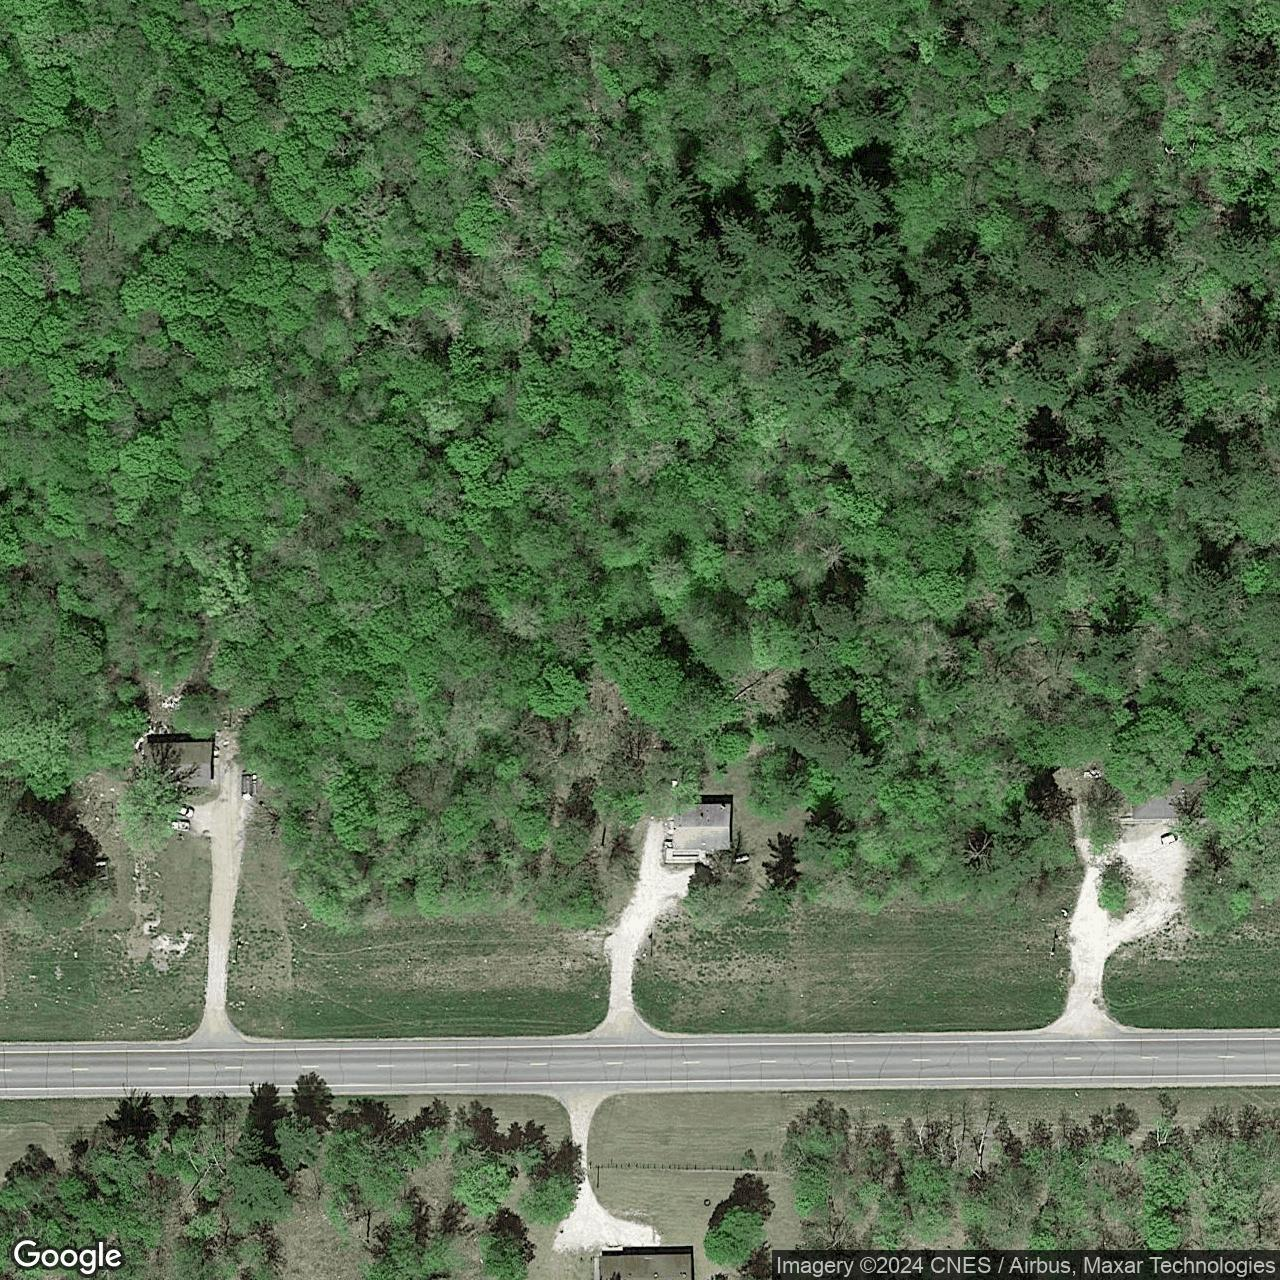House: (139, 737, 216, 791), (672, 801, 734, 852), (597, 1248, 694, 1279), (1130, 790, 1201, 821)
Propane: (733, 851, 751, 866)
